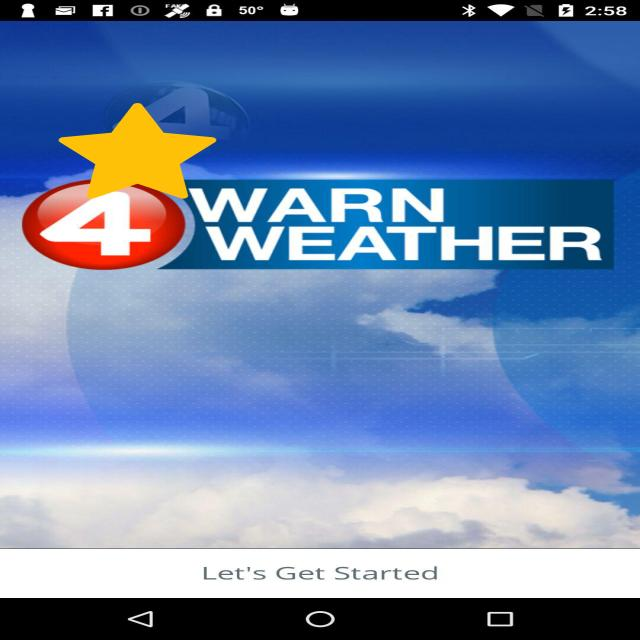forced continuity: (59, 103, 216, 199)
